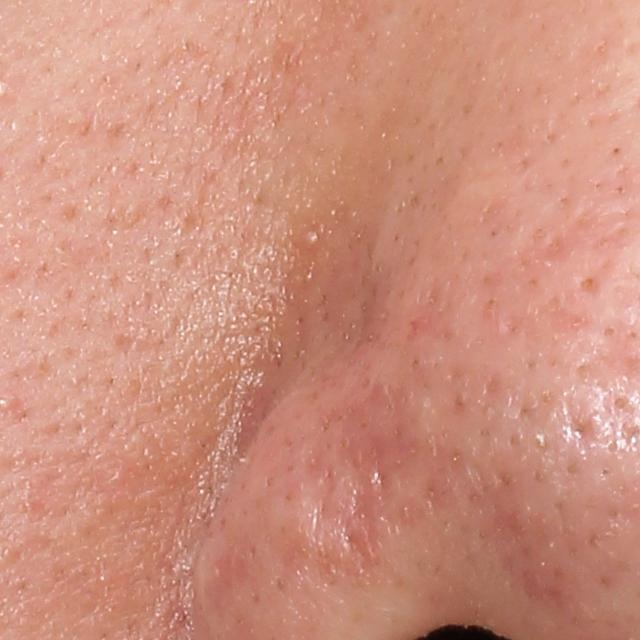comedo: (572, 273, 601, 297)
